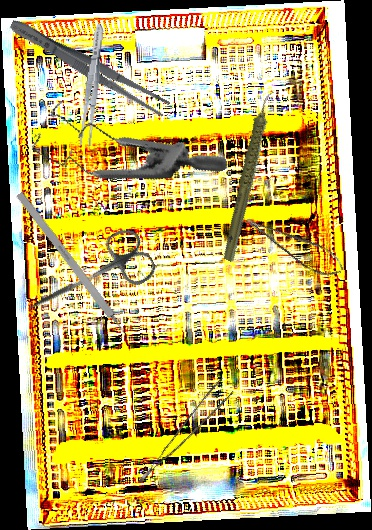Dressing Forceps: (5, 13, 173, 120), (77, 22, 108, 148)
Handpiece: (190, 88, 311, 264)
Hook Surgical: (15, 191, 136, 346)
Iris Scissors: (17, 223, 160, 336)
Micro Scissor: (243, 200, 348, 287)
Speculum: (18, 53, 230, 232)
Tissue Forceps: (123, 377, 239, 484)
